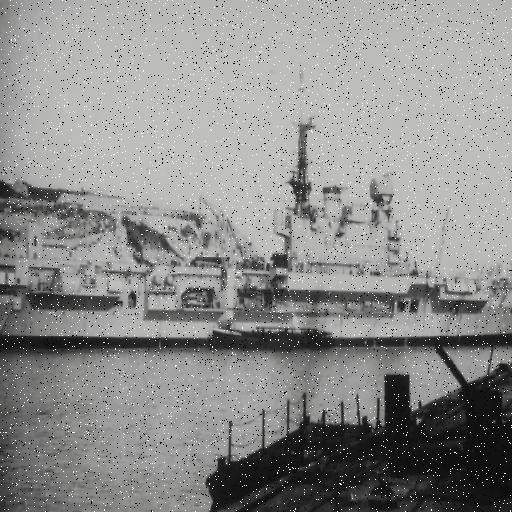Portanaves: (1, 71, 512, 353)
